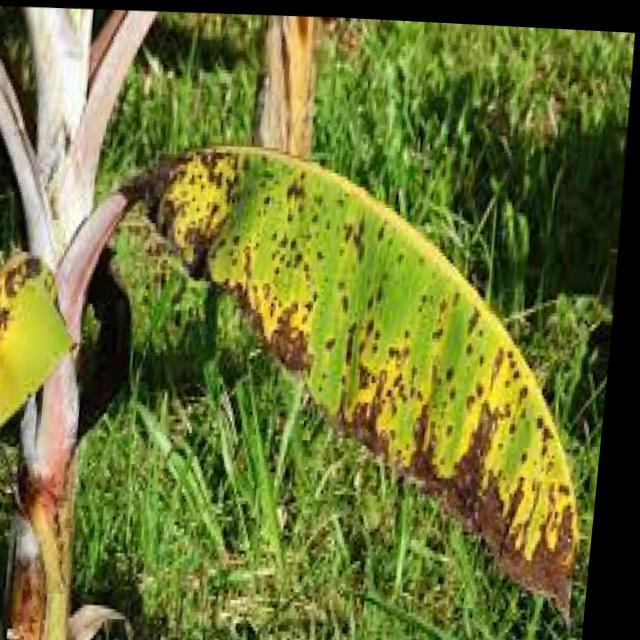Early_rust: (129, 121, 614, 591), (0, 220, 74, 431)
